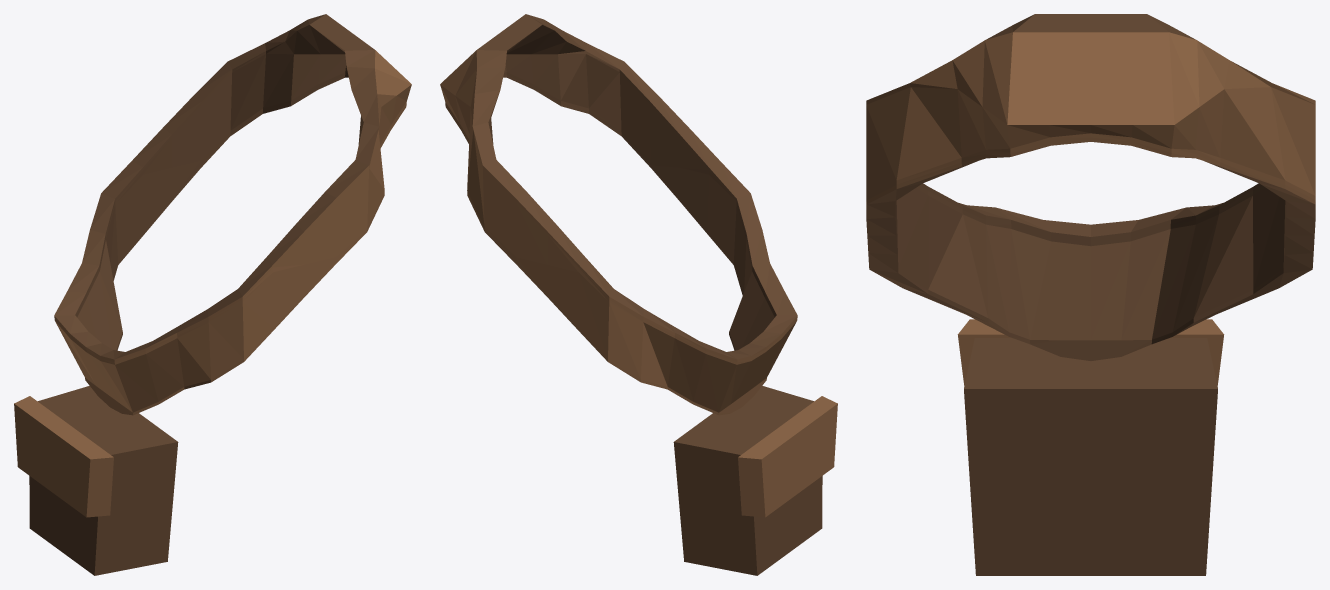
File: person_thin_bandolier_overvest.obj
3 renders of one model, left to right at view 1: azimuth 30°, elevation 25°; view 2: azimuth 150°, elevation 25°; view 3: azimuth 270°, elevation 25°, orthographic. The views are drawn at different scales.
Bounding box in the file's own units: 0.5042 × 0.65 × 0.3712.
